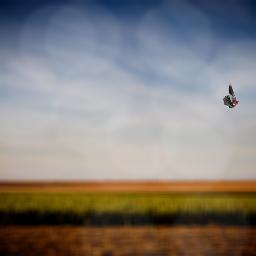Woodpecker: (223, 82, 239, 108)
